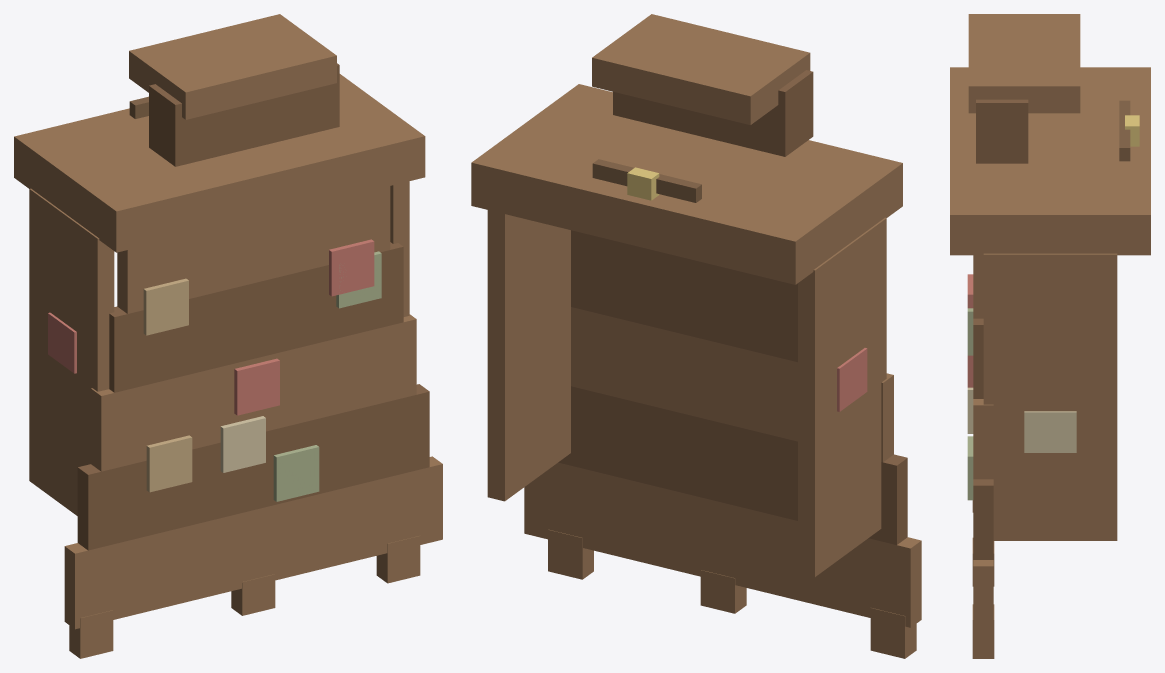
File: capa_viajante_remendos.glb
3 renders of one model, left to right at view 1: azimuth 30°, elevation 25°; view 2: azimuth 150°, elevation 25°; view 3: azimuth 270°, elevation 25°, orthographic. The views are drawn at different scales.
Parts seen in each view (by area): view 1: capa_viajante_remendos; view 2: capa_viajante_remendos; view 3: capa_viajante_remendos.
Boxes of the visible parts, x1,y1,x2,y2 form: capa_viajante_remendos: [14, 14, 442, 658]; capa_viajante_remendos: [471, 14, 921, 658]; capa_viajante_remendos: [950, 14, 1150, 658].
Size of the model in its own units: 1.12 by 1.58 by 0.54.
